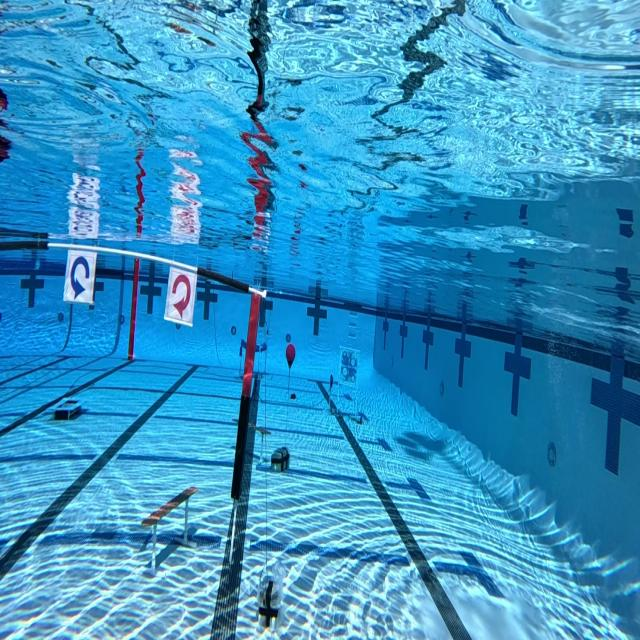blue_side: (66, 249, 95, 308)
red_side: (166, 264, 196, 324)
